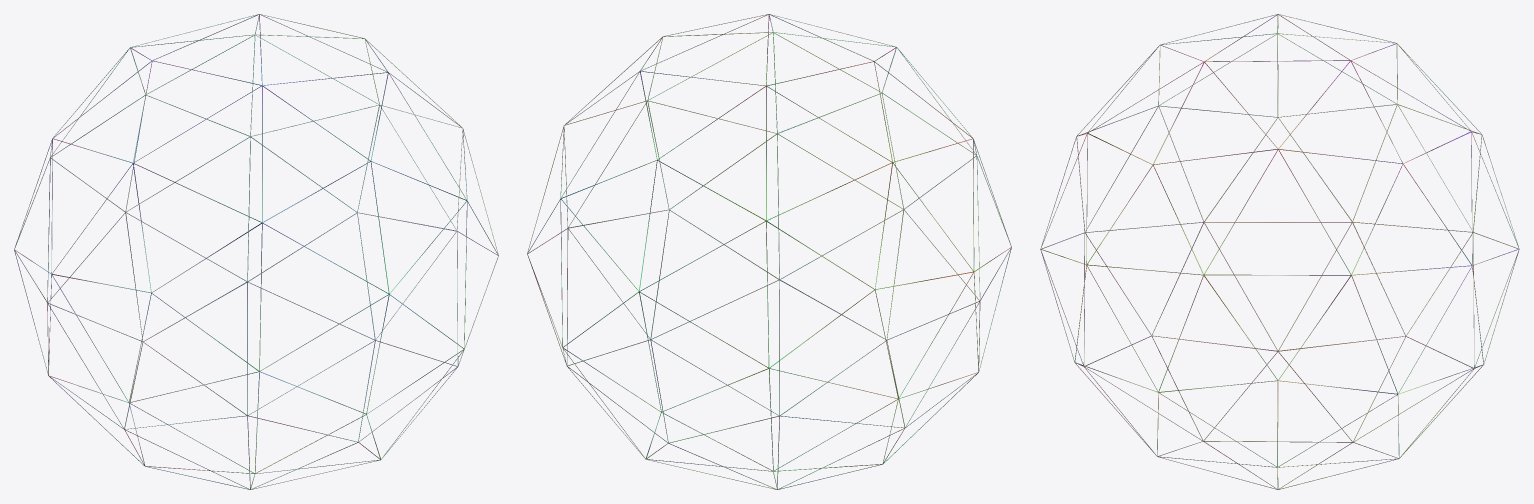
File: zeometry-wireframes-wire-geodesic-sphere_v3.glb
3 renders of one model, left to right at view 1: azimuth 30°, elevation 25°; view 2: azimuth 150°, elevation 25°; view 3: azimuth 270°, elevation 25°, orthographic.
Parts seen in each view (by area): view 1: Wire Geodesic Sphere_v3; view 2: Wire Geodesic Sphere_v3; view 3: Wire Geodesic Sphere_v3.
Part boxes in pixels (box(x1,y1,x2,y2)): Wire Geodesic Sphere_v3: box(14, 14, 498, 489); Wire Geodesic Sphere_v3: box(527, 14, 1011, 489); Wire Geodesic Sphere_v3: box(1040, 14, 1519, 489).
Bounding box in the file's own units: 0.5 × 0.5 × 0.4999.
